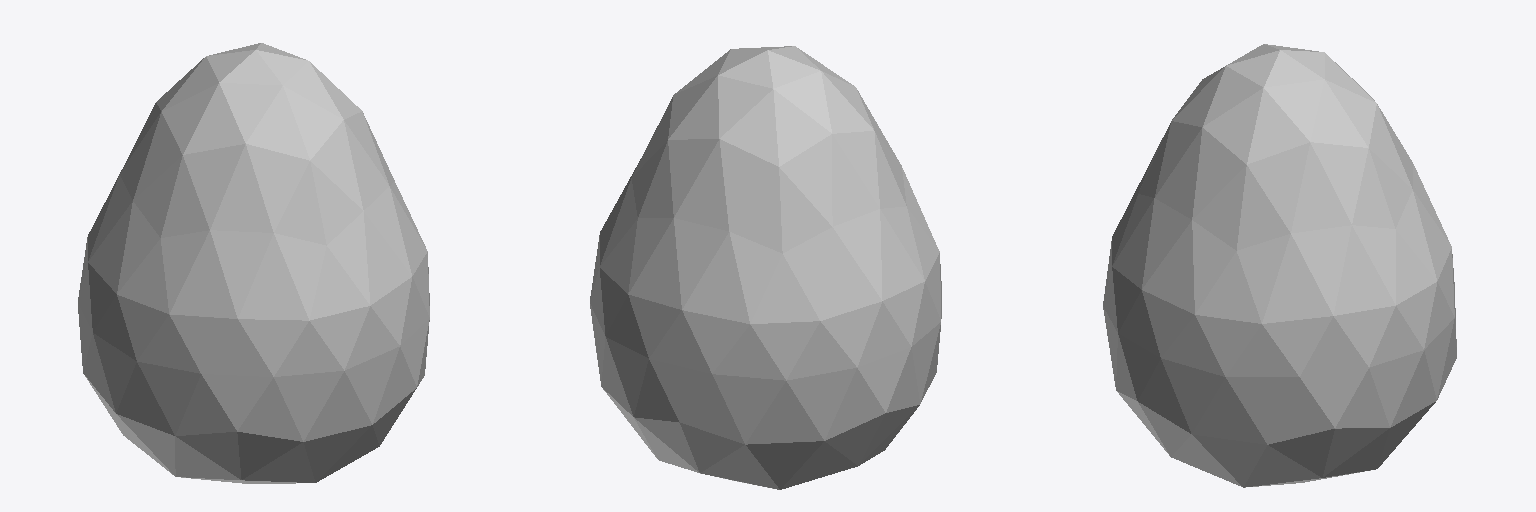
Rendered from zoonami_mystery_egg.obj.
3 views of the same model, side by side, from view 1: azimuth 30°, elevation 25°; view 2: azimuth 150°, elevation 25°; view 3: azimuth 270°, elevation 25° (orthographic).
Size of the model in its own units: 0.6297 by 0.8083 by 0.6297.